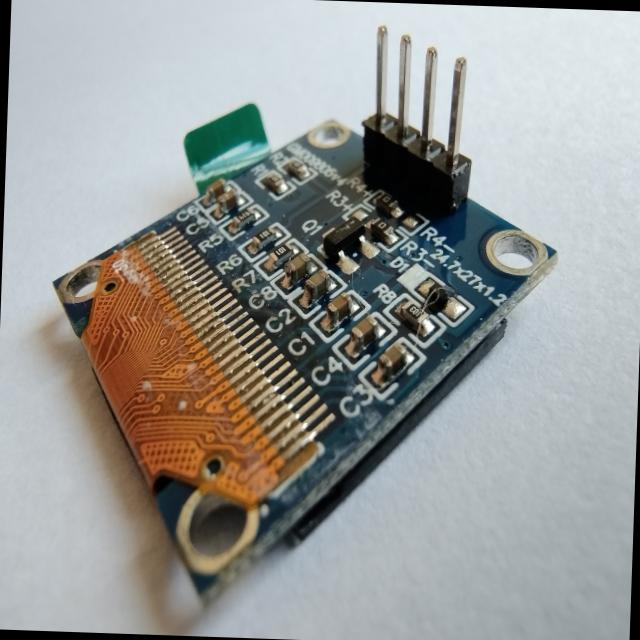oled: (28, 1, 575, 630)
